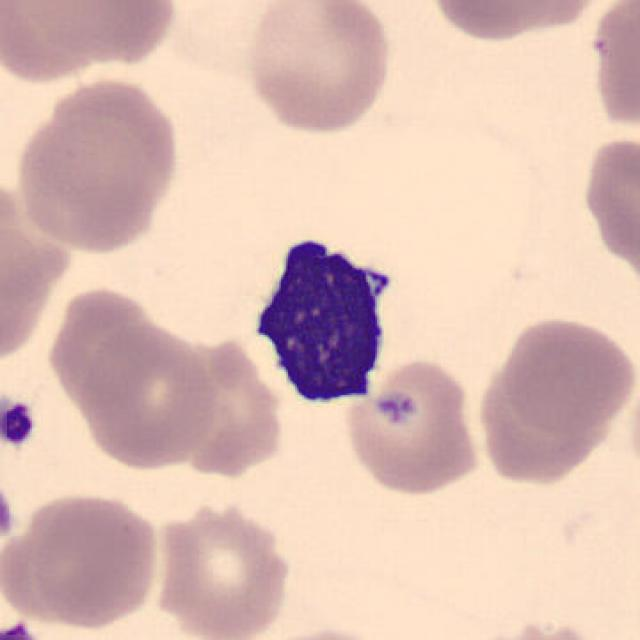Lymphocyte: (240, 221, 405, 415)
Platelets: (0, 397, 39, 451), (0, 485, 18, 543), (0, 619, 41, 640)
RBC: (9, 72, 185, 256), (6, 487, 166, 631), (341, 354, 487, 499), (242, 2, 396, 138), (151, 496, 295, 639), (494, 312, 638, 437), (4, 0, 182, 74), (576, 127, 638, 286), (422, 0, 621, 46), (589, 0, 637, 148), (466, 617, 615, 640), (256, 622, 393, 640)
